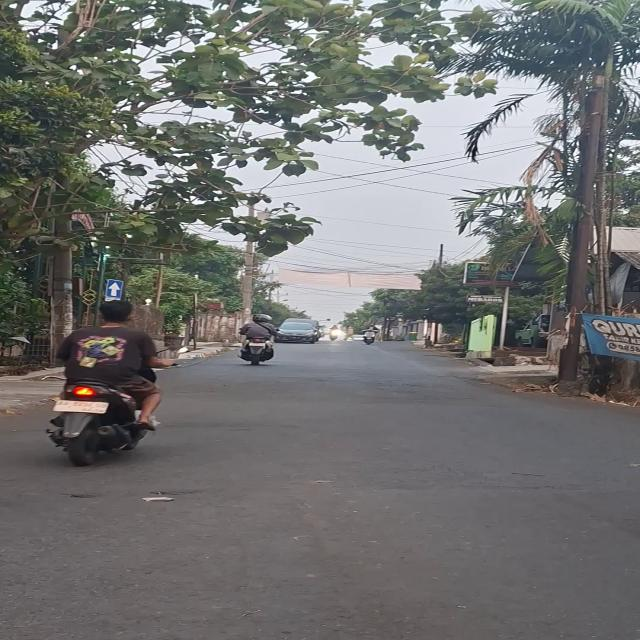WithHelmet: (238, 313, 279, 360), (360, 322, 381, 340), (327, 325, 342, 339)
WithoutHelmet: (38, 300, 167, 460)
